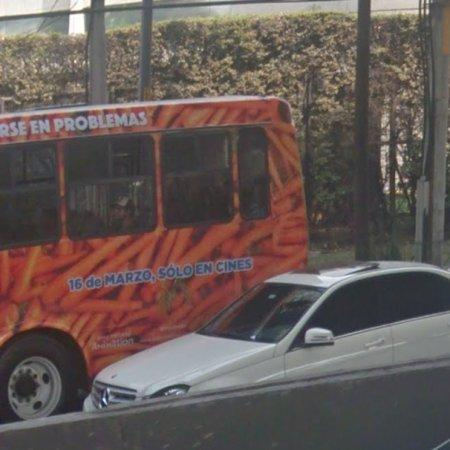buses: (0, 97, 308, 422)
